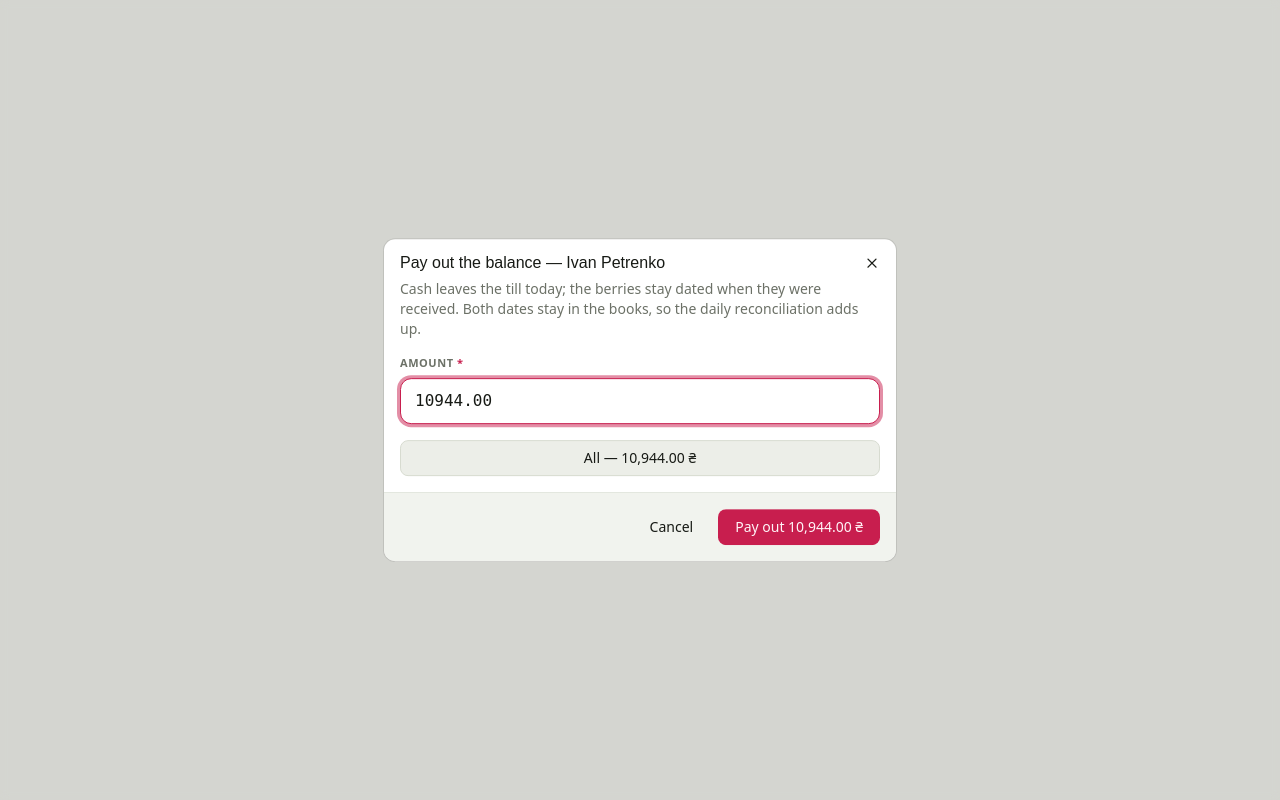
Test case: PayoutDialog › shows a banner for a shift-level server refusal
Click the button "Pay out 10,944.00 ₴" at (799, 527), box [718, 509, 880, 545]
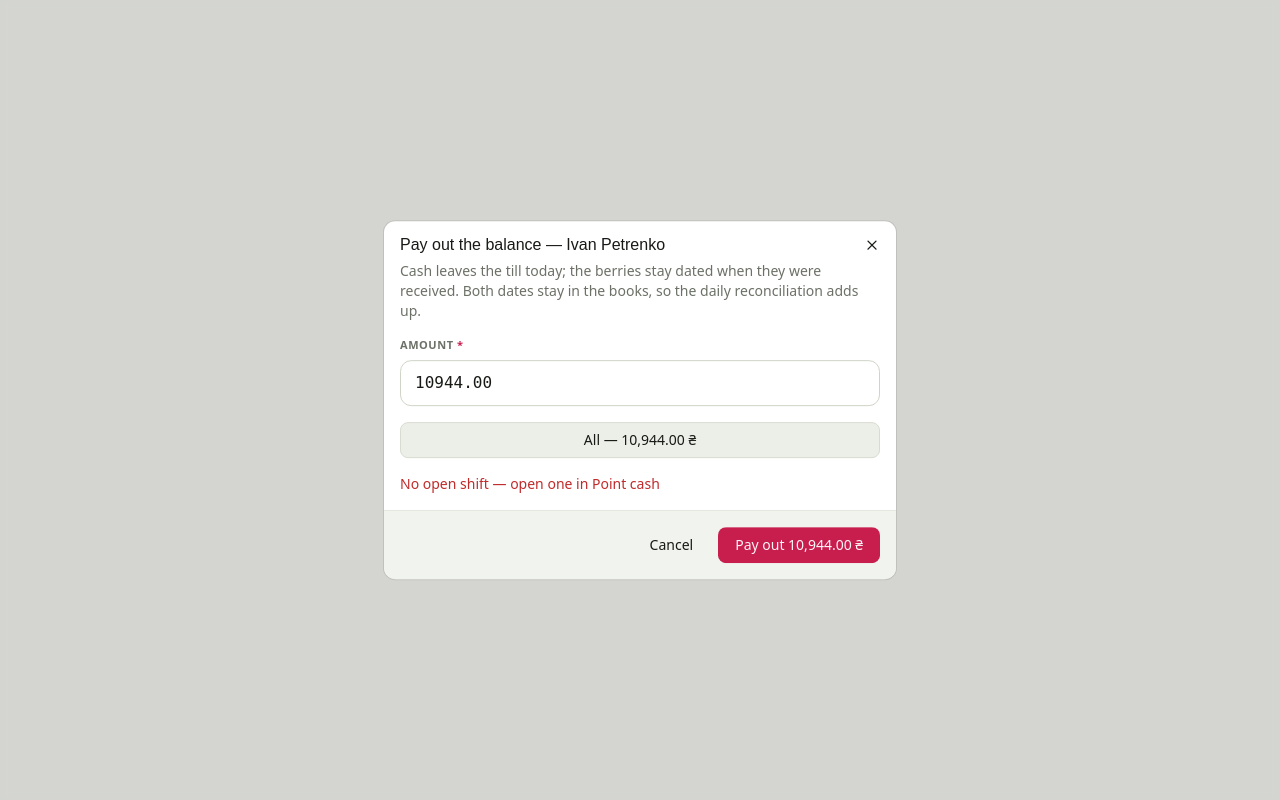
Expected: the text "No open shift — open one in Point cash" is shown, [400, 474, 660, 493]
